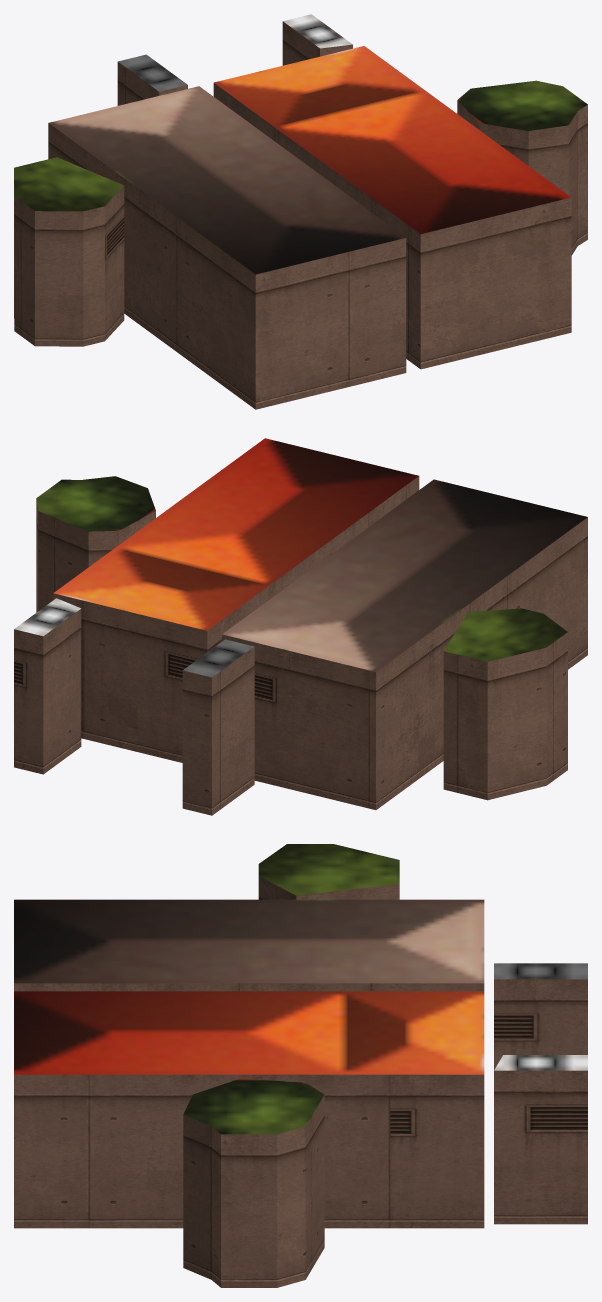
Rendered from BuildingSystem-02-Intermediate-02-Medium-2-26.glb.
The picture shows the model from 3 angles, top to bottom: view 1: azimuth 30°, elevation 25°; view 2: azimuth 150°, elevation 25°; view 3: azimuth 270°, elevation 25°; orthographic projection. The views are drawn at different scales.
Parts seen in each view (by area): view 1: buildings/saxarba/SMV_Buildings/BuildingSystem-02-Intermedia; view 2: buildings/saxarba/SMV_Buildings/BuildingSystem-02-Intermedia; view 3: buildings/saxarba/SMV_Buildings/BuildingSystem-02-Intermedia.
Boxes of the visible parts, bbox=[...] form: buildings/saxarba/SMV_Buildings/BuildingSystem-02-Intermedia: bbox=[14, 14, 587, 409]; buildings/saxarba/SMV_Buildings/BuildingSystem-02-Intermedia: bbox=[14, 438, 587, 815]; buildings/saxarba/SMV_Buildings/BuildingSystem-02-Intermedia: bbox=[14, 844, 587, 1287].
Bounding box in the file's own units: 73 × 18 × 61.
